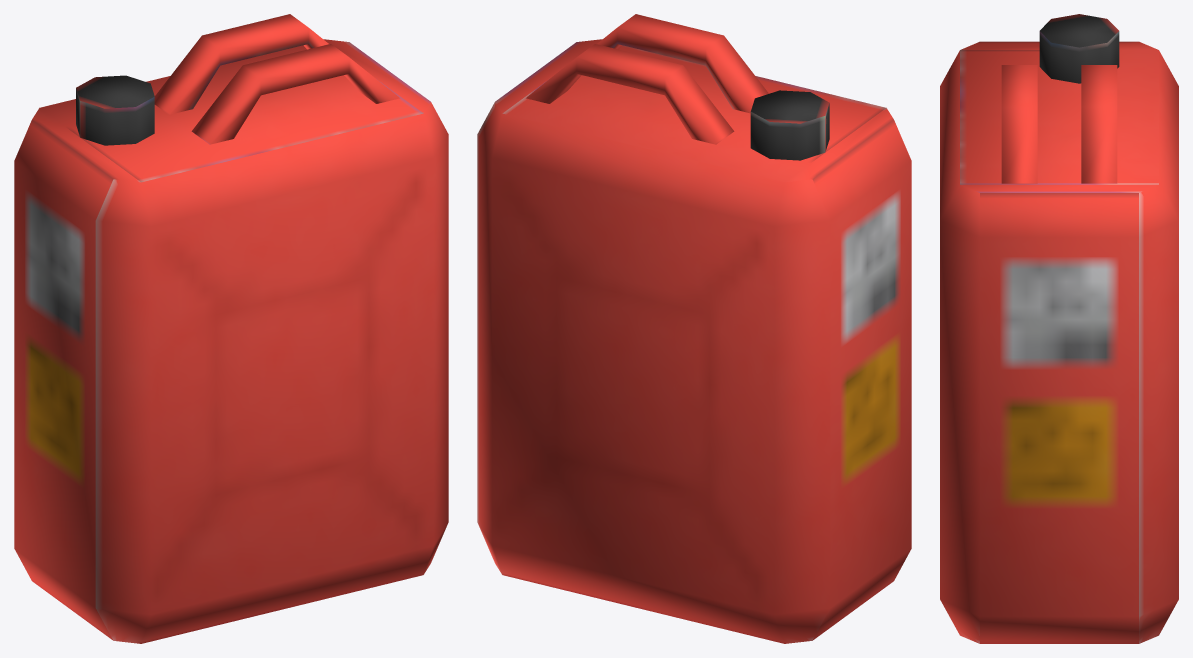
The model's file is CarPart3.fbx.
3 renders of one model, left to right at view 1: azimuth 30°, elevation 25°; view 2: azimuth 150°, elevation 25°; view 3: azimuth 270°, elevation 25°, orthographic. The views are drawn at different scales.
Visible parts, largest first — view 1: CarPart3; view 2: CarPart3; view 3: CarPart3.
Part boxes in pixels (bbox=[...]): CarPart3: bbox=[14, 14, 448, 643]; CarPart3: bbox=[477, 14, 911, 643]; CarPart3: bbox=[940, 14, 1178, 643].
Bounding box in the file's own units: 20 × 27.9 × 12.
